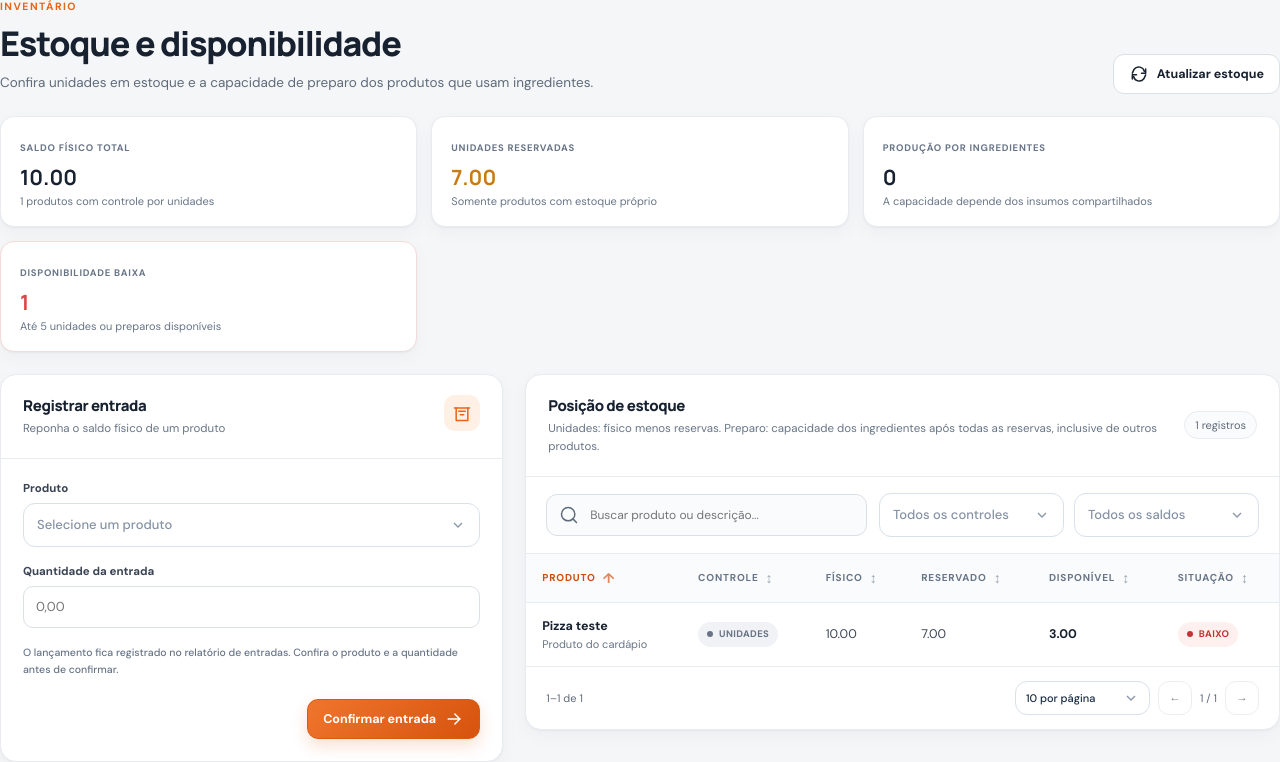
Test: refresh falho após entrada salva não sugere repetir lançamento
The width and height of the screenshot is (1280, 762).
Expected: the text "Pizza teste" is shown, [542, 618, 608, 634]
Select "Pizza teste · saldo 10.00" in the dropdown labelled "Produto": (46, 488) [23, 481, 68, 496]
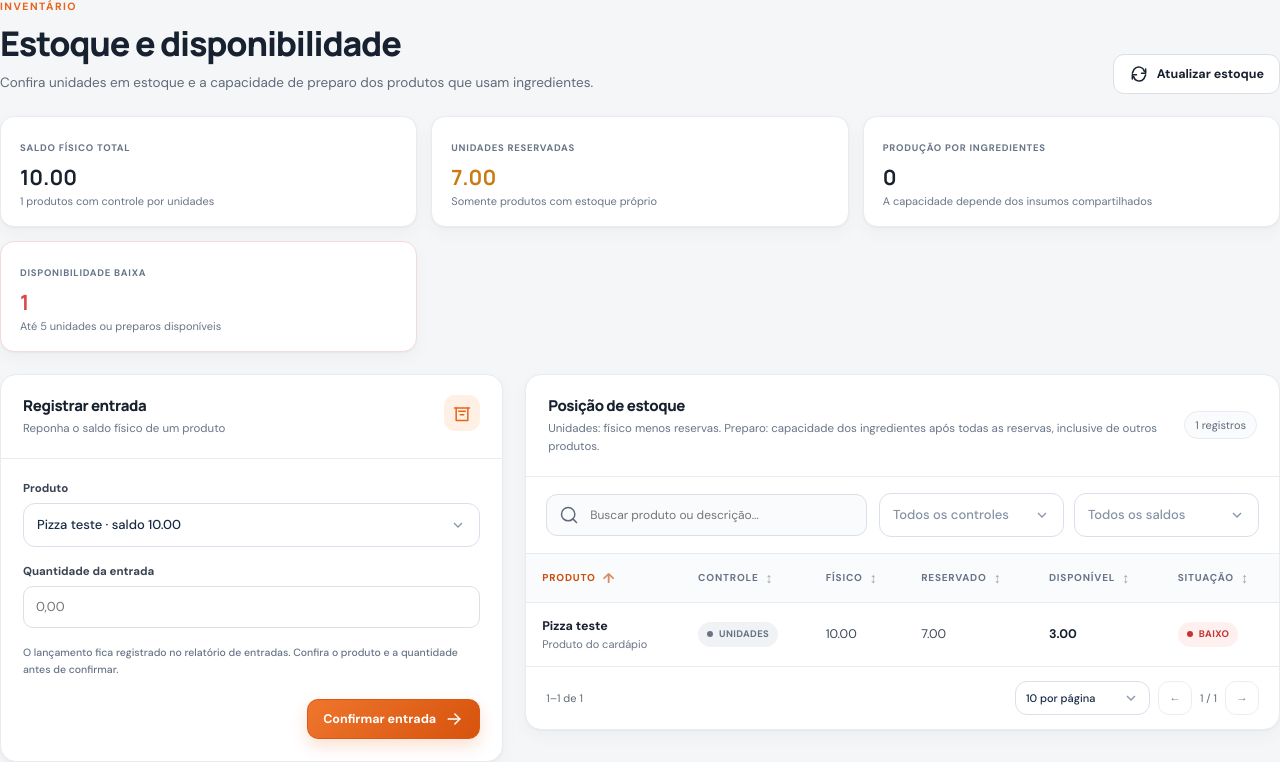
In the number field labelled "Quantidade da entrada": (252, 607) [23, 586, 480, 628], type "5"
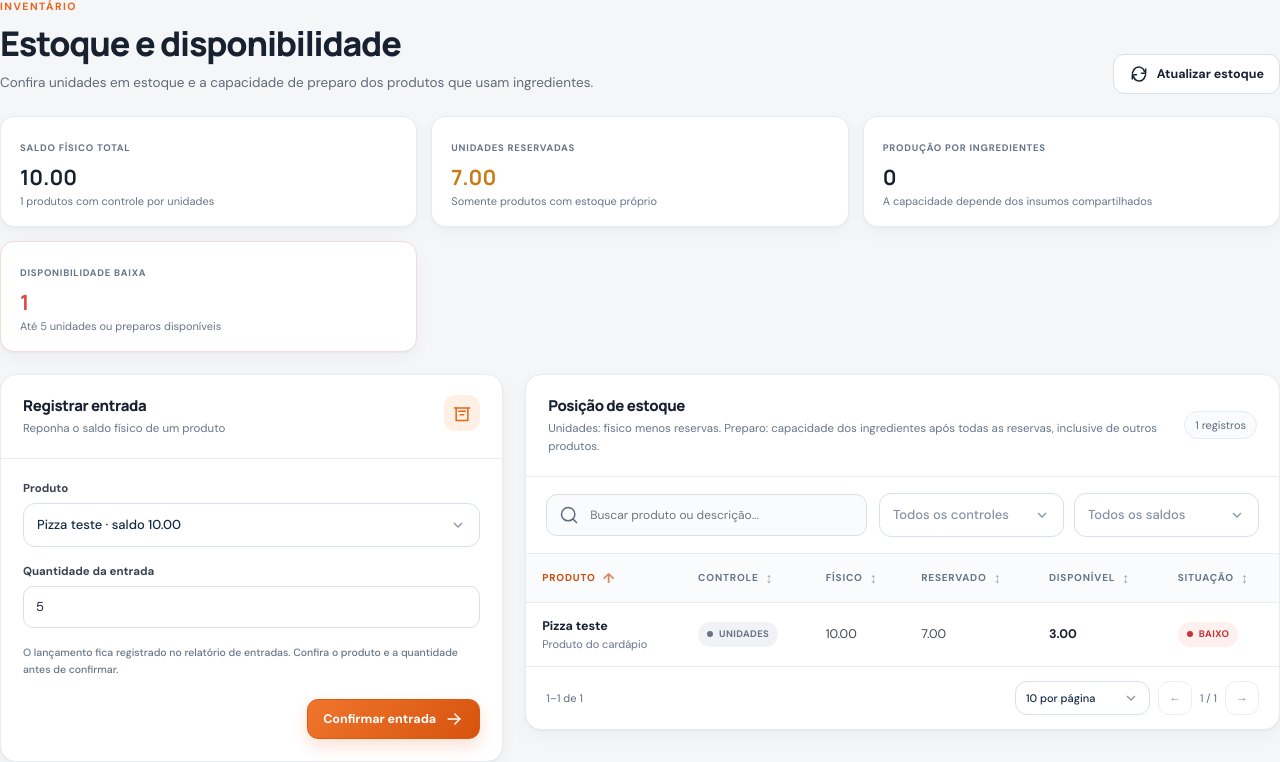
Submit the form named "Registrar entrada de estoque", box [23, 481, 480, 739]
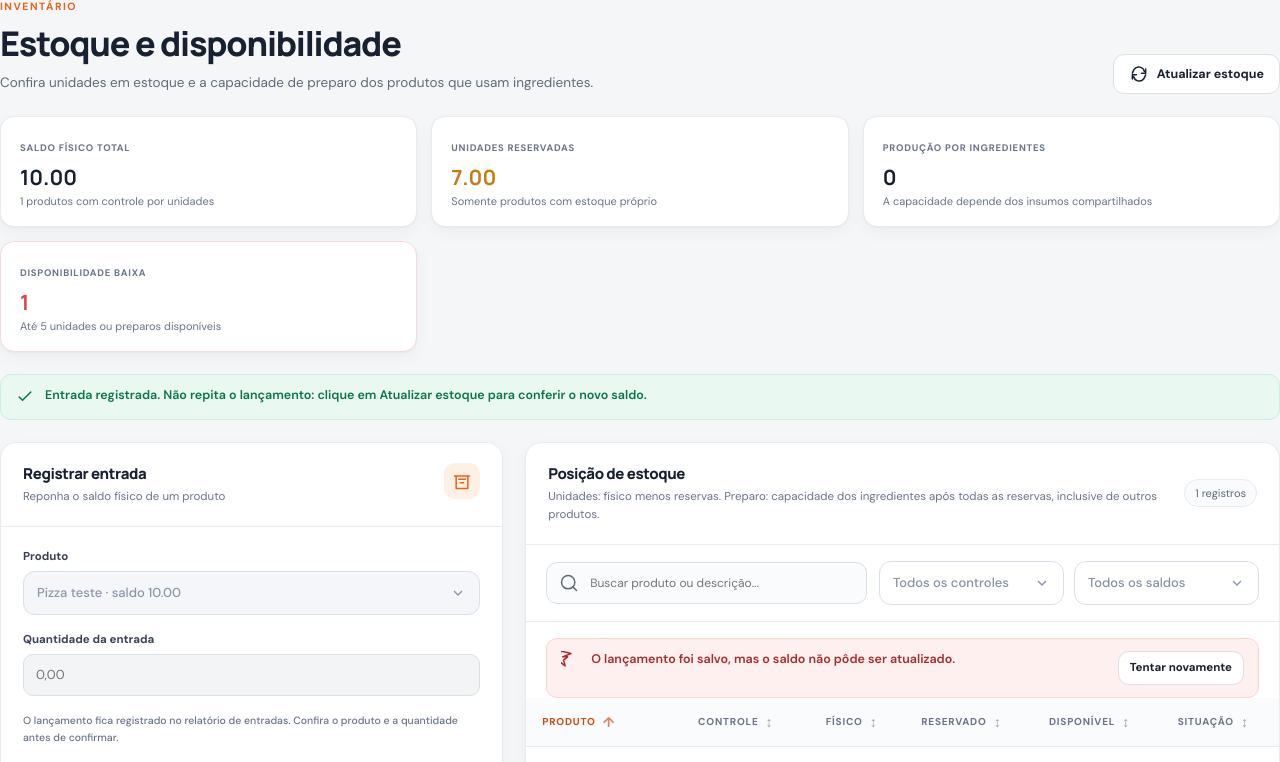
Now the text "Não repita o lançamento" is shown, box [45, 387, 647, 403]
